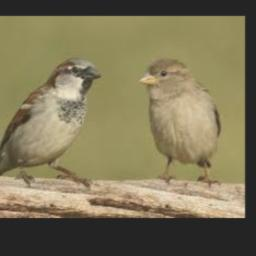Sparrow: (0, 58, 101, 186), (137, 58, 221, 188)
